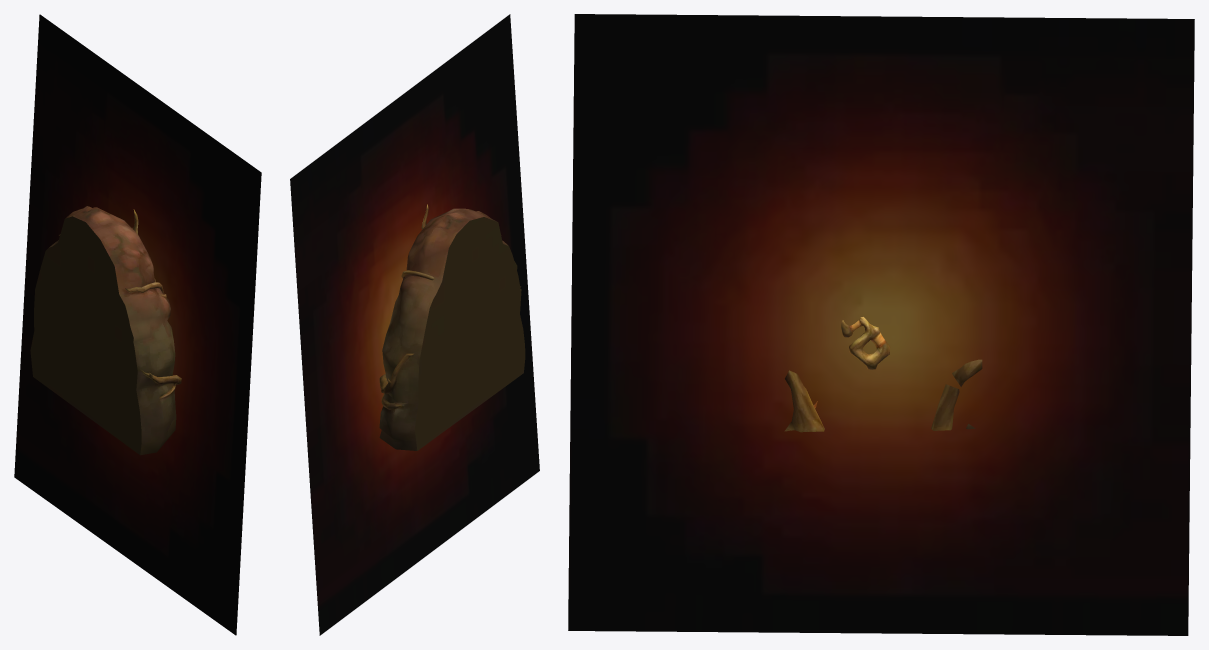
The picture shows the model from 3 angles, left to right: view 1: azimuth 30°, elevation 25°; view 2: azimuth 150°, elevation 25°; view 3: azimuth 270°, elevation 25°; orthographic projection. The views are drawn at different scales.
Bounding box in the file's own units: 1.42 × 9.23 × 8.18.
Materials: 4 (4 with a texture image).
